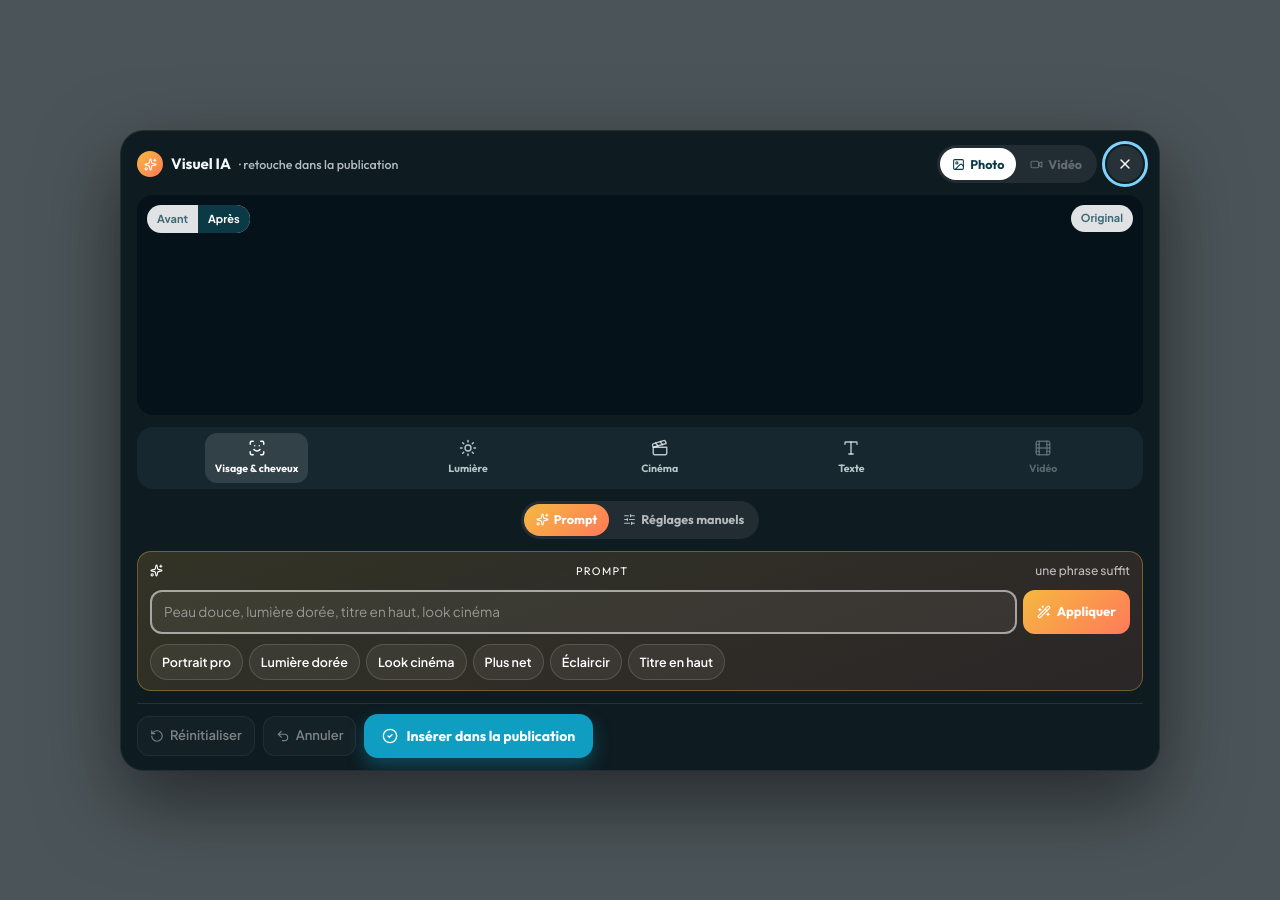
Test: studio « Visuel IA » (DEC-2026-061, B10) › une image d’un site qui interdit la lecture du canvas donne un message clair, sans rien insérer
Click the button "Insérer dans la publication". click: (479, 736)
box: x1=364 y1=714 x2=593 y2=758
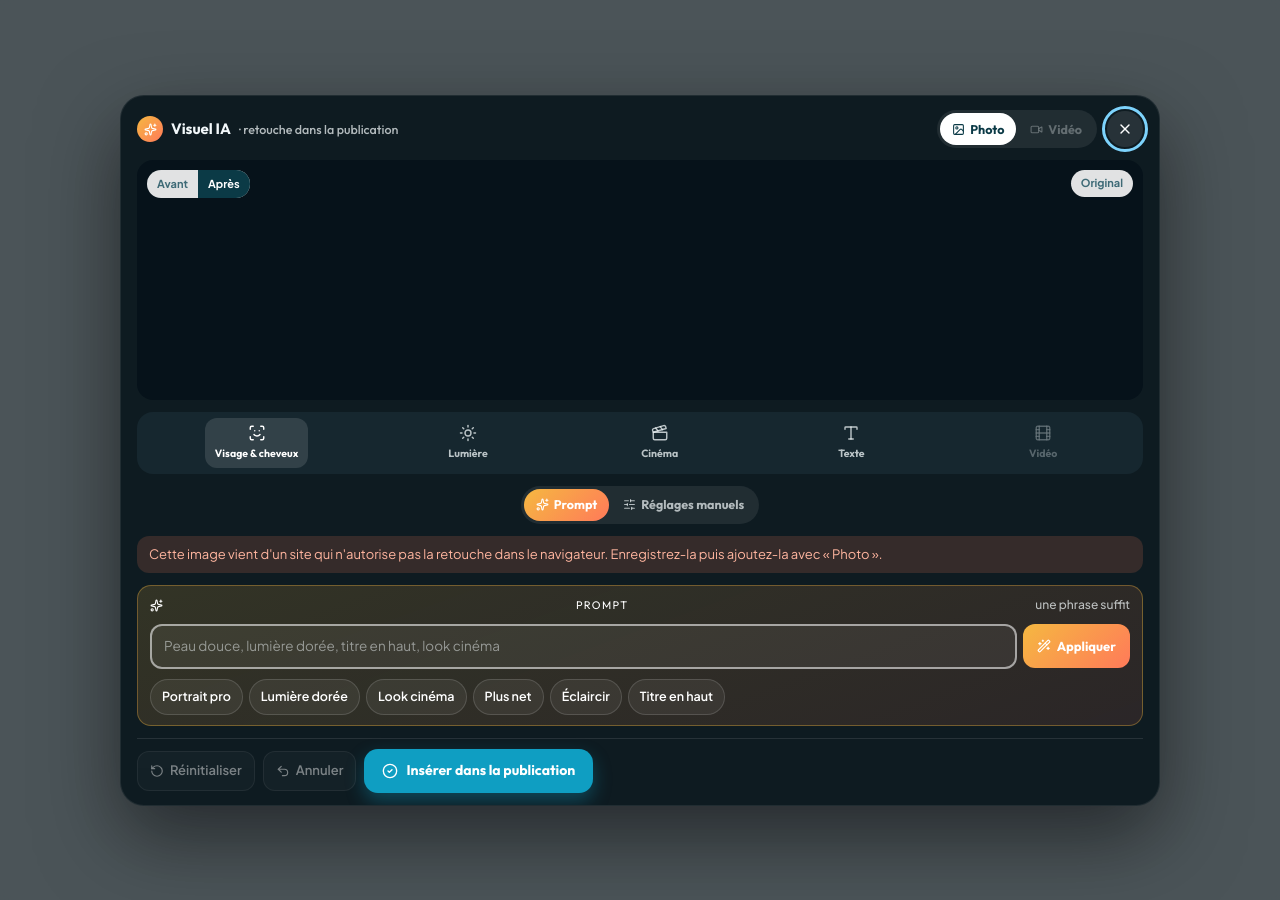
Check: the message shows "n'autorise pas la retouche dans le navigateur", box x1=149 y1=546 x2=882 y2=562
